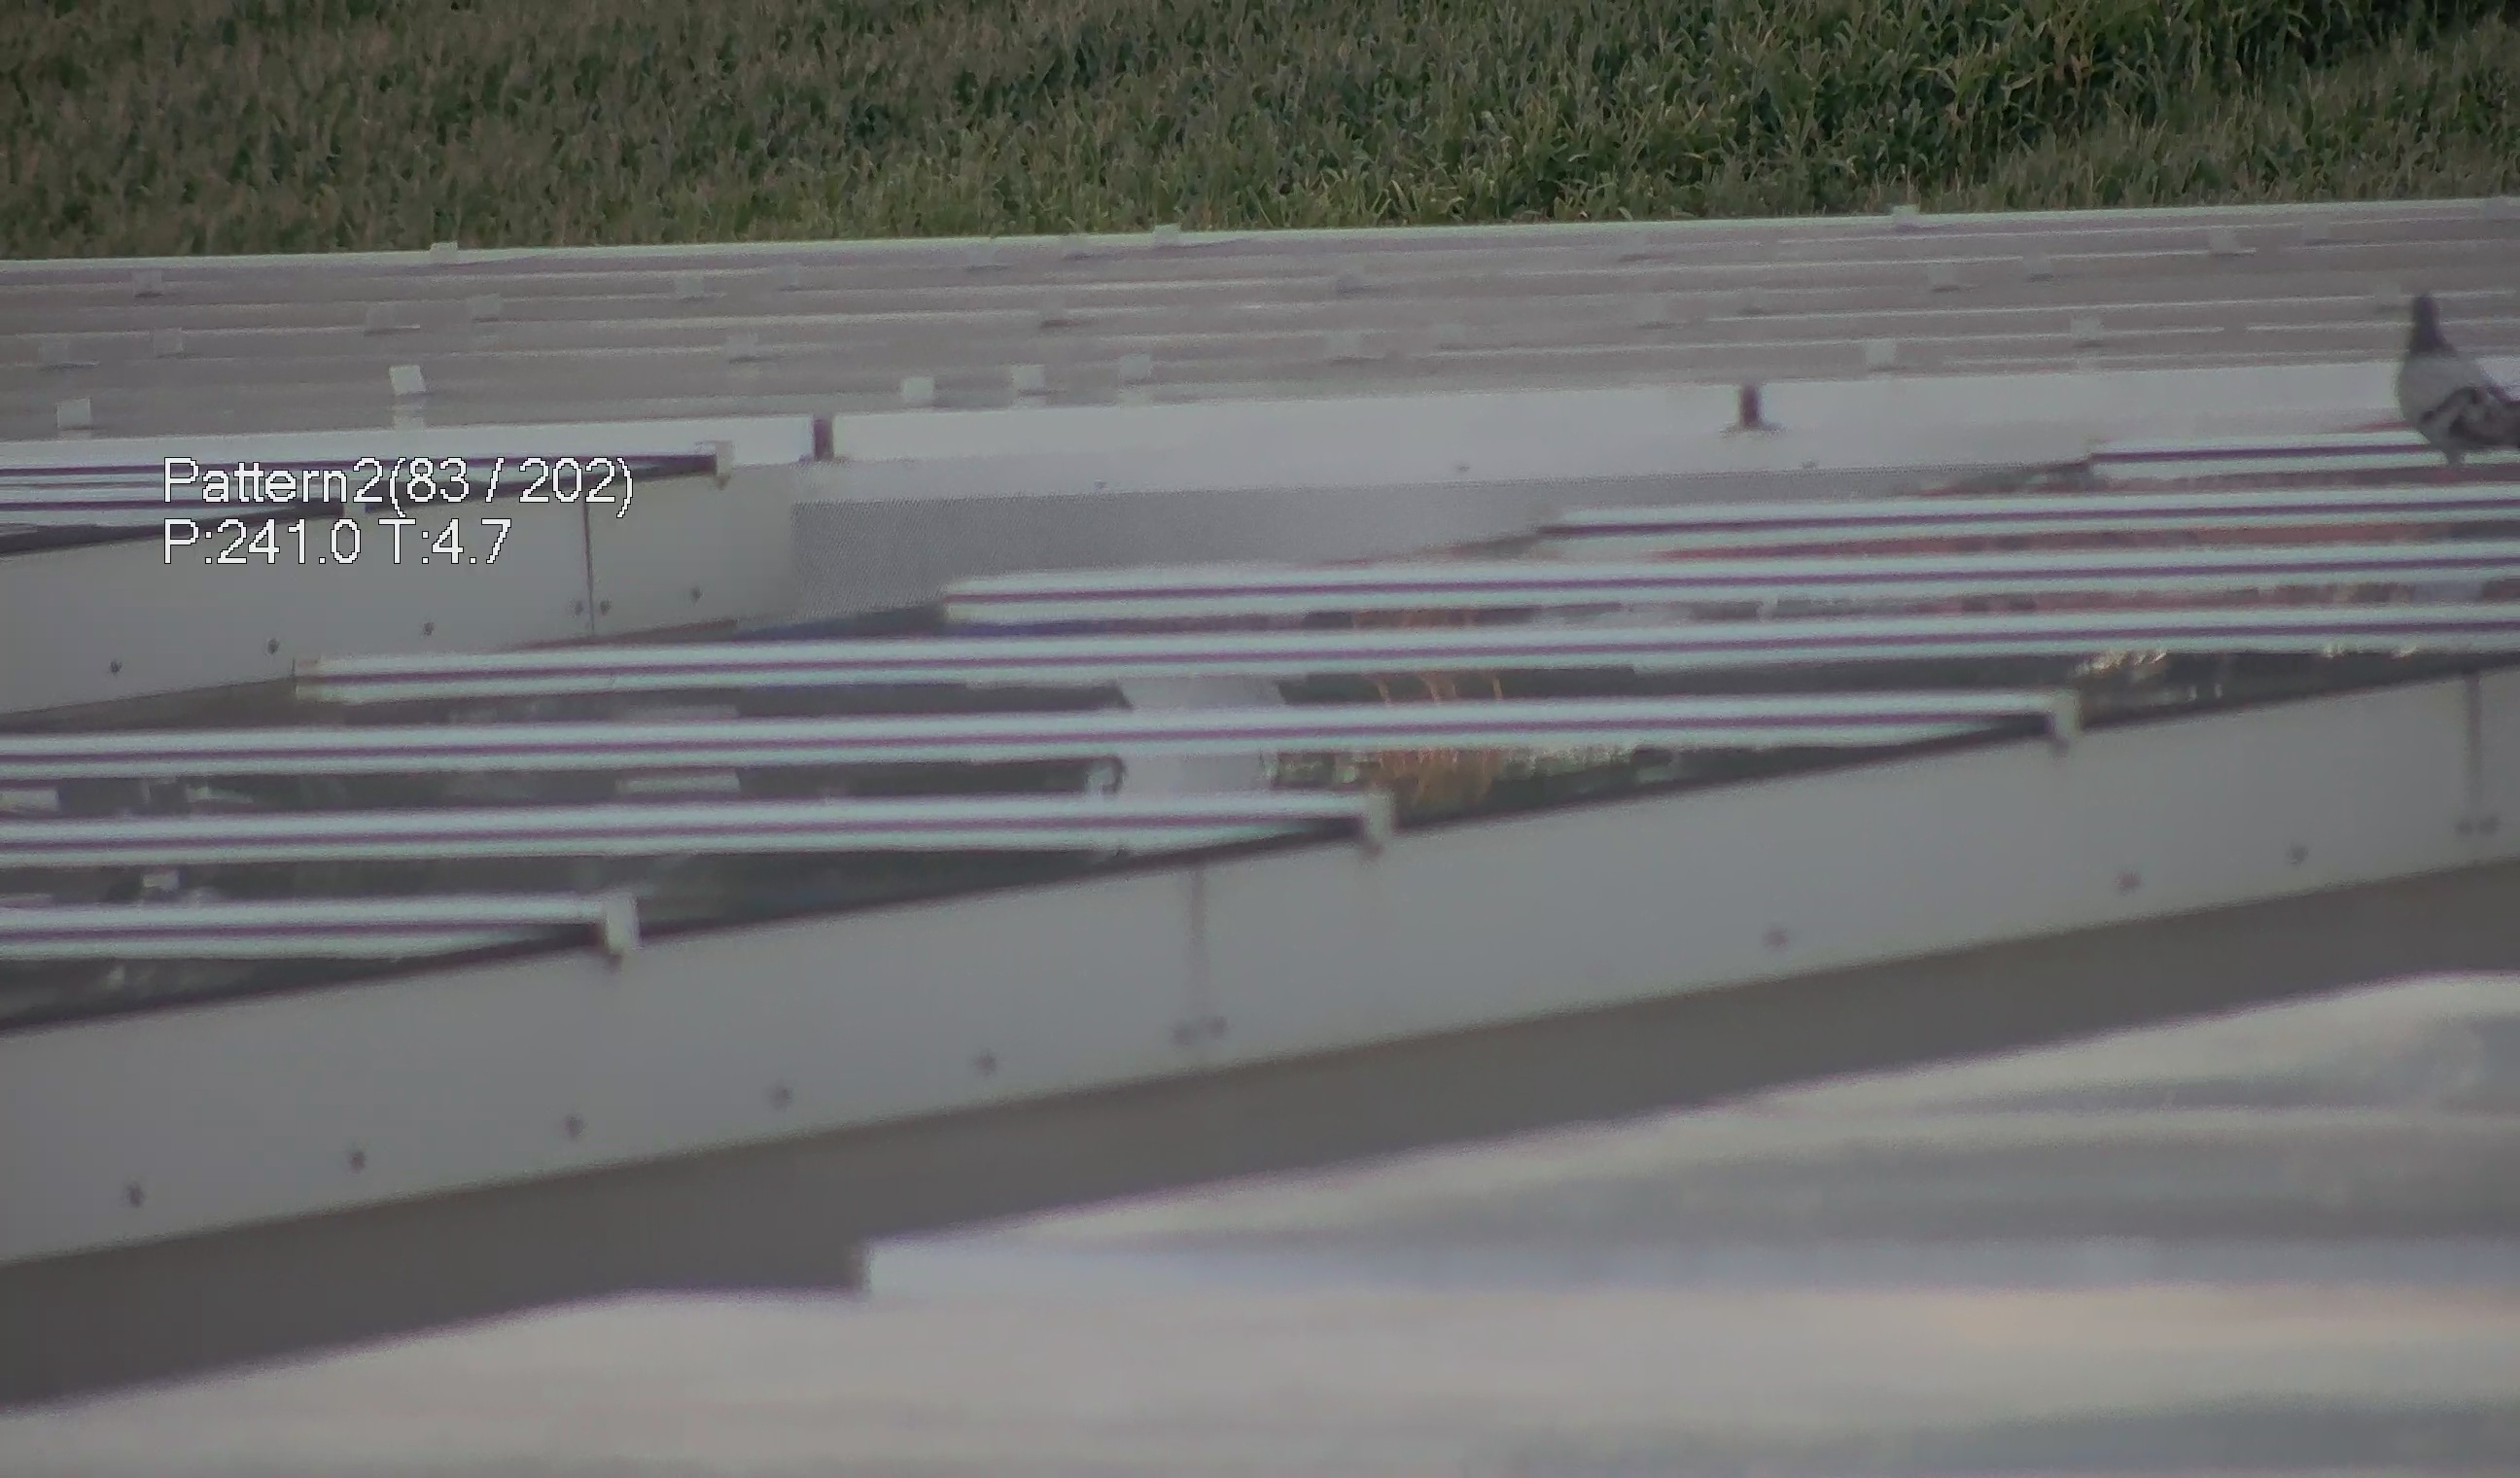Pigeon: (2395, 271, 2520, 466)
